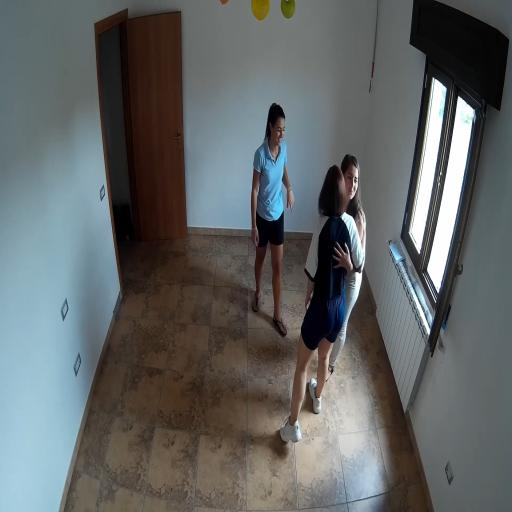nao-violencia: (274, 148, 378, 457)
